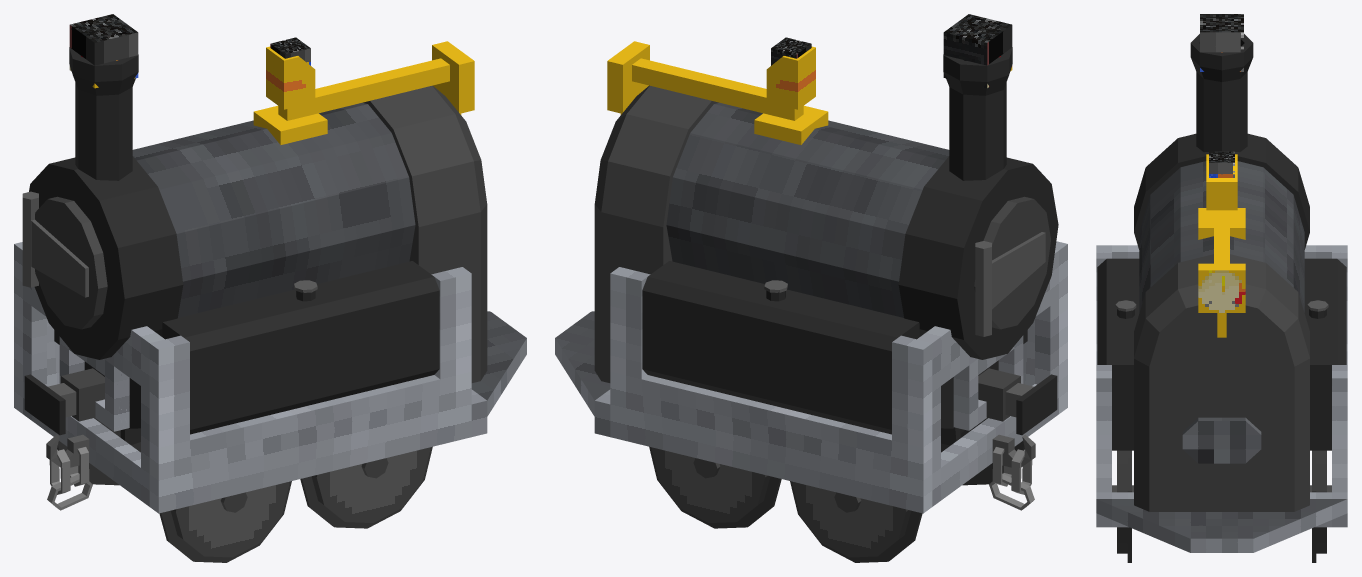
Rendered from superchugger.obj.
3 views of the same model, side by side, from view 1: azimuth 30°, elevation 25°; view 2: azimuth 150°, elevation 25°; view 3: azimuth 270°, elevation 25° (orthographic). The views are drawn at different scales.
Visible parts, largest first — view 1: FRAME, BOILER_SEGMENT_1, SMOKEBOX, SHELL, FIREBOX, PIPING, WHEEL_DRIVER_1, WHEEL_DRIVER_2, COUPLER_FRONT, COUPLER_REAR, CHIMNEY_1, WHISTLE (+2 smaller); view 2: FRAME, BOILER_SEGMENT_1, SMOKEBOX, SHELL, FIREBOX, PIPING, WHEEL_DRIVER_1, WHEEL_DRIVER_2, COUPLER_FRONT, COUPLER_REAR, CHIMNEY_1, WHISTLE (+2 smaller); view 3: FIREBOX, BOILER_SEGMENT_1, SHELL, SMOKEBOX, COUPLER_REAR, FRAME, PIPING, WHEEL_DRIVER_2, CHIMNEY_1, WHISTLE, PRESSURE_VALVE_1.
Boxes of the visible parts, x1,y1,x2,y2 form: FRAME: (14,242,471,513); BOILER_SEGMENT_1: (132,102,415,317); SMOKEBOX: (22,47,183,359); SHELL: (54,261,439,434); FIREBOX: (363,85,487,382); PIPING: (253,41,474,144); WHEEL_DRIVER_1: (57,418,291,562); WHEEL_DRIVER_2: (300,446,432,528); COUPLER_FRONT: (24,368,104,510); COUPLER_REAR: (471,311,526,436); CHIMNEY_1: (69,14,138,88); WHISTLE: (266,46,315,109); FRAME: (610,241,1067,513); BOILER_SEGMENT_1: (666,102,949,317); SMOKEBOX: (898,47,1058,359); SHELL: (642,261,1027,434); FIREBOX: (594,85,718,382); PIPING: (607,41,828,144); WHEEL_DRIVER_1: (790,418,1024,562); WHEEL_DRIVER_2: (649,446,781,528); COUPLER_FRONT: (978,368,1057,510); COUPLER_REAR: (555,311,610,436); CHIMNEY_1: (943,14,1012,88); WHISTLE: (766,46,815,109); FIREBOX: (1134,254,1309,511); BOILER_SEGMENT_1: (1139,161,1304,312); SHELL: (1097,258,1346,450); SMOKEBOX: (1134,34,1309,249); COUPLER_REAR: (1096,492,1347,552); FRAME: (1096,245,1347,492); PIPING: (1198,208,1245,337); WHEEL_DRIVER_2: (1112,450,1331,562); CHIMNEY_1: (1200,14,1243,71); WHISTLE: (1206,154,1237,210); PRESSURE_VALVE_1: (1209,151,1234,177).
Bounding box in the file's own units: 1.86 × 1.95 × 1.
Materials: 1 (1 with a texture image).
